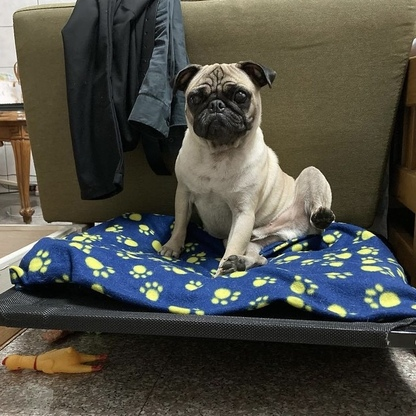Pug: (152, 57, 339, 276)
